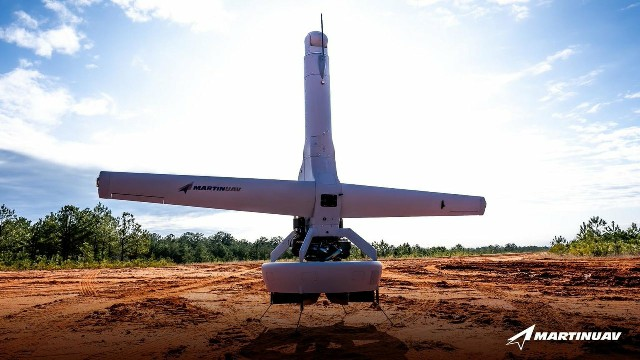maybay_khongnguoilai: (95, 28, 497, 266)
